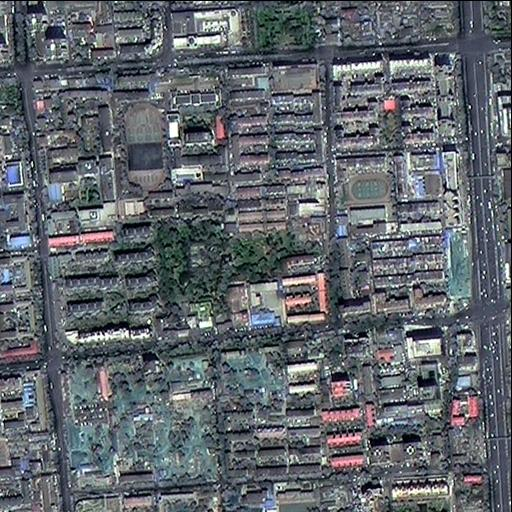school: (331, 152, 392, 236), (245, 280, 284, 329)
